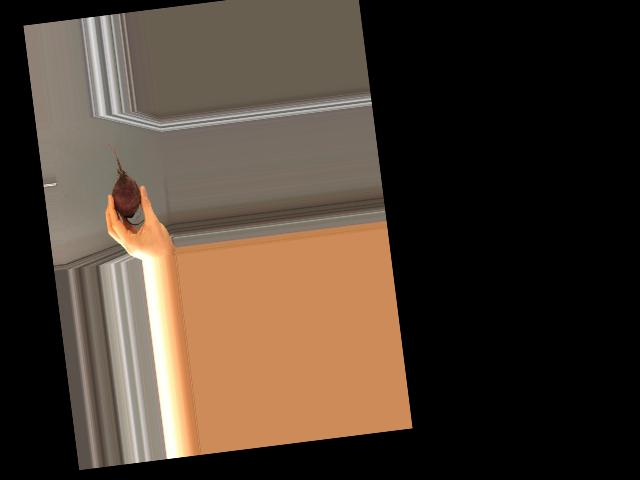beet: (106, 136, 145, 226)
